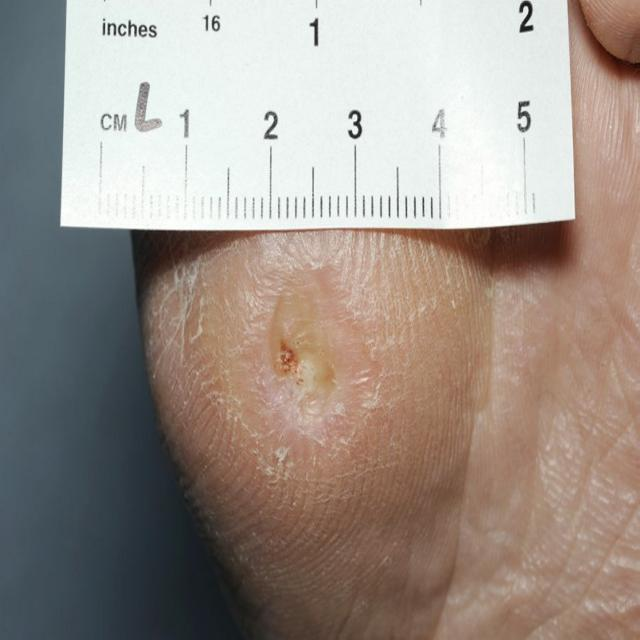wound: (268, 281, 342, 422)
